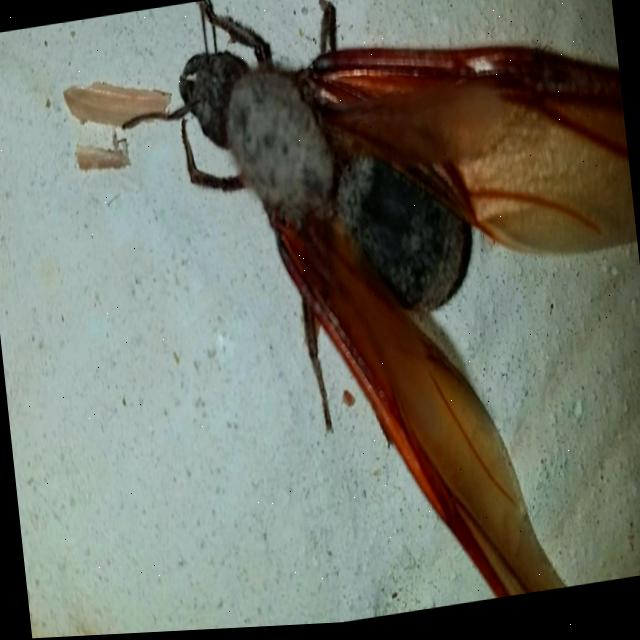Alive-Female-Alate: (110, 0, 640, 636)
